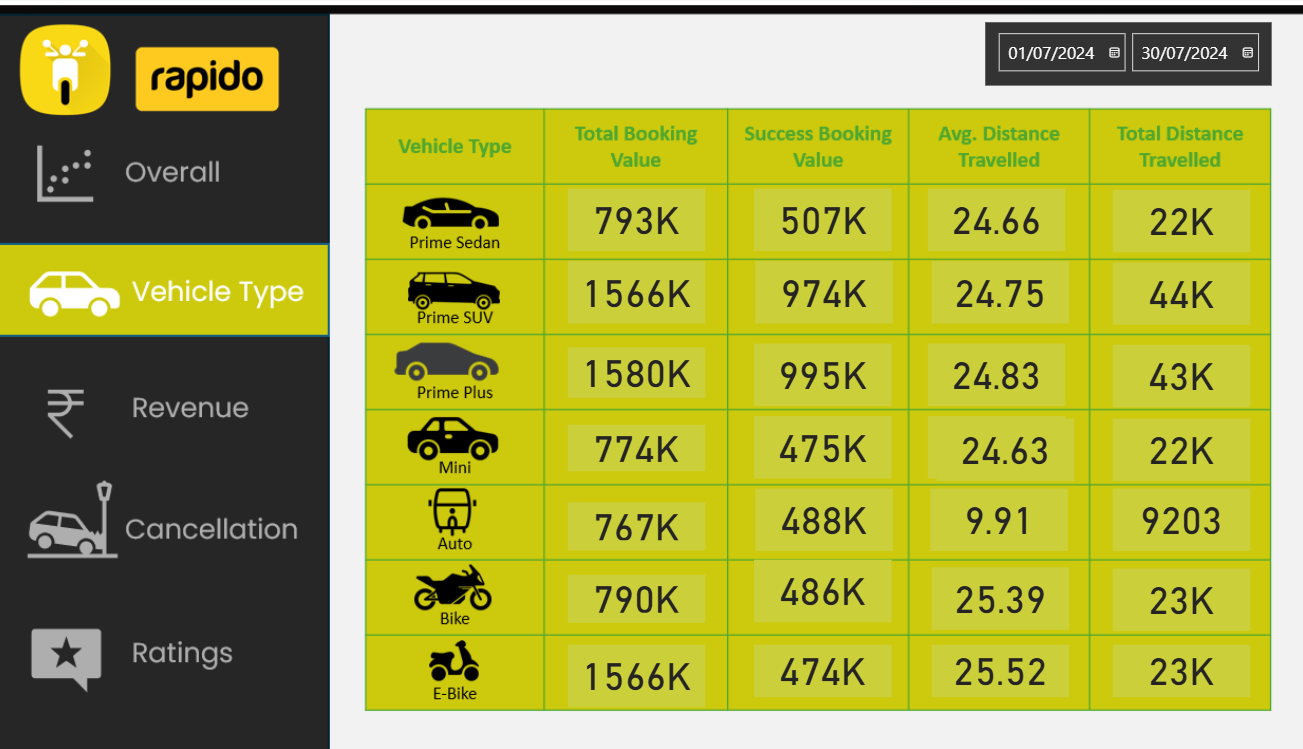

Layout of this report page (visuals, bound fields, positions):
{"tool":"powerbi","page":{"name":"VEHICLE TYPE","canvas":[1280,720],"ordinal":1},"visuals":[{"type":"actionButton","box":[20.5,342.6,310.1,88.1],"z":0},{"type":"card","fields":{"Values":["Sum(Bengaluru_Bookings_10k.Booking_Value)"]},"box":[557.1,177,130.4,59],"z":1000},{"type":"card","fields":{"Values":["Sum(Bengaluru_Bookings_10k.Booking_Value)"]},"box":[557.1,245.6,130.4,59],"z":2000},{"type":"card","fields":{"Values":["Sum(Bengaluru_Bookings_10k.Booking_Value)"]},"box":[557.1,328,130.4,48],"z":3000},{"type":"card","fields":{"Values":["Sum(Bengaluru_Bookings_10k.Booking_Value)"]},"box":[557.1,400.7,130.4,43.9],"z":4000},{"type":"card","fields":{"Values":["Sum(Bengaluru_Bookings_10k.Booking_Value)"]},"box":[557.1,474.8,130.4,45.3],"z":5000},{"type":"card","fields":{"Values":["Sum(Bengaluru_Bookings_10k.Booking_Value)"]},"box":[557.1,543.4,130.4,45.3],"z":6000},{"type":"card","fields":{"Values":["Sum(Bengaluru_Bookings_10k.Booking_Value)"]},"box":[557.1,609.3,130.4,59],"z":7000},{"type":"card","fields":{"Values":["Sum(Bengaluru_Bookings_10k.Booking_Value)"]},"box":[734.1,177,130.4,59],"z":8000},{"type":"card","fields":{"Values":["Sum(Bengaluru_Bookings_10k.Booking_Value)"]},"box":[735.5,245.6,130.4,59],"z":9000},{"type":"card","fields":{"Values":["Sum(Bengaluru_Bookings_10k.Booking_Value)"]},"box":[734.1,323.8,130.4,59],"z":10000},{"type":"card","fields":{"Values":["Sum(Bengaluru_Bookings_10k.Booking_Value)"]},"box":[734.1,392.5,130.4,59],"z":11000},{"type":"card","fields":{"Values":["Sum(Bengaluru_Bookings_10k.Booking_Value)"]},"box":[735.5,461.1,130.4,59],"z":12000},{"type":"card","fields":{"Values":["Sum(Bengaluru_Bookings_10k.Booking_Value)"]},"box":[734.1,529.7,130.4,59],"z":13000},{"type":"card","fields":{"Values":["Sum(Bengaluru_Bookings_10k.Booking_Value)"]},"box":[734.1,609.3,130.4,49.4],"z":14000},{"type":"card","fields":{"Values":["Avg(Bengaluru_Bookings_10k.Ride_Distance)"]},"box":[898.8,177,130.4,59],"z":15000},{"type":"card","fields":{"Values":["Avg(Bengaluru_Bookings_10k.Ride_Distance)"]},"box":[901.5,245.6,130.4,59],"z":16000},{"type":"card","fields":{"Values":["Avg(Bengaluru_Bookings_10k.Ride_Distance)"]},"box":[898.8,323.8,130.4,59],"z":17000},{"type":"card","fields":{"Values":["Avg(Bengaluru_Bookings_10k.Ride_Distance)"]},"box":[898.8,392.5,130.4,59],"z":18000},{"type":"card","fields":{"Values":["Avg(Bengaluru_Bookings_10k.Ride_Distance)"]},"box":[900.2,461.1,130.4,59],"z":19000},{"type":"card","fields":{"Values":["Avg(Bengaluru_Bookings_10k.Ride_Distance)"]},"box":[901.5,536.5,130.4,59],"z":20000},{"type":"card","fields":{"Values":["Avg(Bengaluru_Bookings_10k.Ride_Distance)"]},"box":[901.5,609.3,130.4,49.4],"z":21000},{"type":"card","fields":{"Values":["Sum(Bengaluru_Bookings_10k.Ride_Distance)"]},"box":[1073.1,178.4,130.4,59],"z":22000},{"type":"card","fields":{"Values":["Sum(Bengaluru_Bookings_10k.Ride_Distance)"]},"box":[1073.1,247,130.4,59],"z":23000},{"type":"card","fields":{"Values":["Sum(Bengaluru_Bookings_10k.Ride_Distance)"]},"box":[1073.1,325.2,130.4,59],"z":24000},{"type":"card","fields":{"Values":["Avg(Bengaluru_Bookings_10k.Ride_Distance)"]},"box":[906.6,395.9,130.4,59],"z":25000},{"type":"card","fields":{"Values":["Sum(Bengaluru_Bookings_10k.Ride_Distance)"]},"box":[1073.1,395.2,130.4,59],"z":26000},{"type":"card","fields":{"Values":["Sum(Bengaluru_Bookings_10k.Ride_Distance)"]},"box":[1073.1,461.1,130.4,59],"z":27000},{"type":"card","fields":{"Values":["Sum(Bengaluru_Bookings_10k.Ride_Distance)"]},"box":[1073.1,537.9,130.4,59],"z":28000},{"type":"card","fields":{"Values":["Sum(Bengaluru_Bookings_10k.Ride_Distance)"]},"box":[1073.1,609.3,130.4,49.4],"z":29000},{"type":"slicer","title":"DATE","fields":{"Values":["Bengaluru_Bookings_10k.Date"]},"box":[952.9,20,271.4,60],"z":30000}]}

Visuals, with their boxes on the page's 1280x720 design canvas (x1, y1, x2, y2). These are canvas units, not pixel positions in the 1303x749 screenshot, which may show the page scaled, cropped or inside an application window:
actionButton: (20, 343, 331, 431)
card - Sum(Bengaluru_Bookings_10k.Booking_Value): (557, 177, 688, 236)
card - Sum(Bengaluru_Bookings_10k.Booking_Value): (557, 246, 688, 305)
card - Sum(Bengaluru_Bookings_10k.Booking_Value): (557, 328, 688, 376)
card - Sum(Bengaluru_Bookings_10k.Booking_Value): (557, 401, 688, 445)
card - Sum(Bengaluru_Bookings_10k.Booking_Value): (557, 475, 688, 520)
card - Sum(Bengaluru_Bookings_10k.Booking_Value): (557, 543, 688, 589)
card - Sum(Bengaluru_Bookings_10k.Booking_Value): (557, 609, 688, 668)
card - Sum(Bengaluru_Bookings_10k.Booking_Value): (734, 177, 864, 236)
card - Sum(Bengaluru_Bookings_10k.Booking_Value): (736, 246, 866, 305)
card - Sum(Bengaluru_Bookings_10k.Booking_Value): (734, 324, 864, 383)
card - Sum(Bengaluru_Bookings_10k.Booking_Value): (734, 392, 864, 452)
card - Sum(Bengaluru_Bookings_10k.Booking_Value): (736, 461, 866, 520)
card - Sum(Bengaluru_Bookings_10k.Booking_Value): (734, 530, 864, 589)
card - Sum(Bengaluru_Bookings_10k.Booking_Value): (734, 609, 864, 659)
card - Avg(Bengaluru_Bookings_10k.Ride_Distance): (899, 177, 1029, 236)
card - Avg(Bengaluru_Bookings_10k.Ride_Distance): (902, 246, 1032, 305)
card - Avg(Bengaluru_Bookings_10k.Ride_Distance): (899, 324, 1029, 383)
card - Avg(Bengaluru_Bookings_10k.Ride_Distance): (899, 392, 1029, 452)
card - Avg(Bengaluru_Bookings_10k.Ride_Distance): (900, 461, 1031, 520)
card - Avg(Bengaluru_Bookings_10k.Ride_Distance): (902, 536, 1032, 596)
card - Avg(Bengaluru_Bookings_10k.Ride_Distance): (902, 609, 1032, 659)
card - Sum(Bengaluru_Bookings_10k.Ride_Distance): (1073, 178, 1204, 237)
card - Sum(Bengaluru_Bookings_10k.Ride_Distance): (1073, 247, 1204, 306)
card - Sum(Bengaluru_Bookings_10k.Ride_Distance): (1073, 325, 1204, 384)
card - Avg(Bengaluru_Bookings_10k.Ride_Distance): (907, 396, 1037, 455)
card - Sum(Bengaluru_Bookings_10k.Ride_Distance): (1073, 395, 1204, 454)
card - Sum(Bengaluru_Bookings_10k.Ride_Distance): (1073, 461, 1204, 520)
card - Sum(Bengaluru_Bookings_10k.Ride_Distance): (1073, 538, 1204, 597)
card - Sum(Bengaluru_Bookings_10k.Ride_Distance): (1073, 609, 1204, 659)
"DATE" slicer: (953, 20, 1224, 80)
